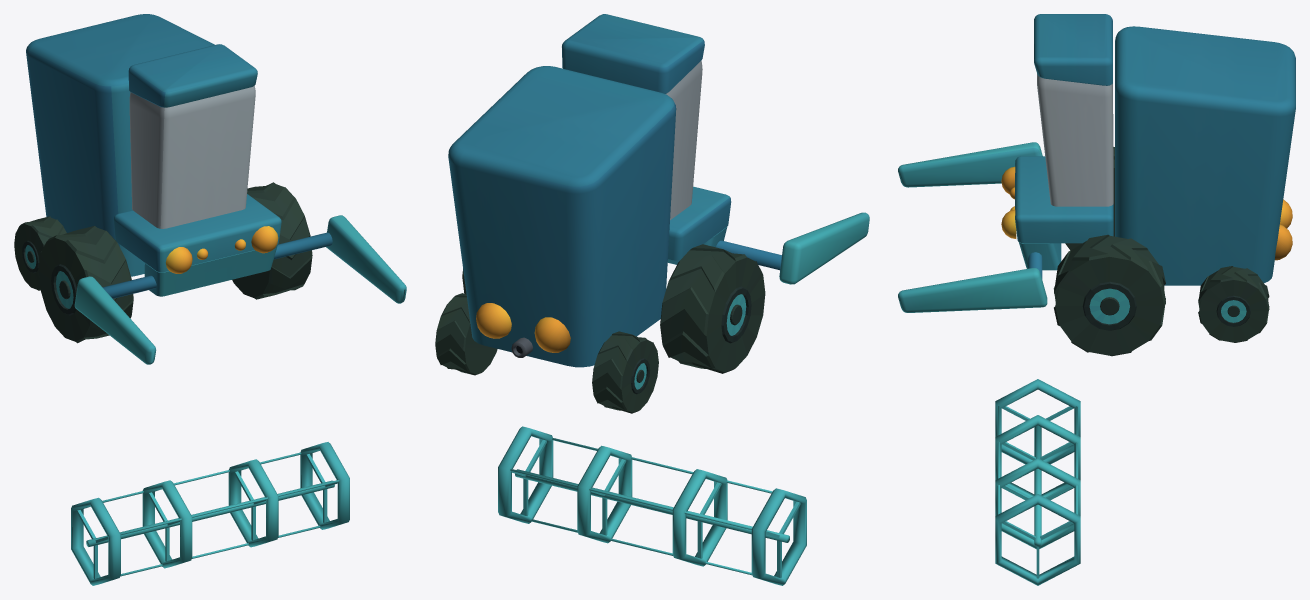
File: Harvester.fbx
3 renders of one model, left to right at view 1: azimuth 30°, elevation 25°; view 2: azimuth 150°, elevation 25°; view 3: azimuth 270°, elevation 25°, orthographic. The views are drawn at different scales.
Parts seen in each view (by area): view 1: Truck, Harvest cylinder, Front Wheels, Pim, Back Wheels; view 2: Truck, Harvest cylinder, Front Wheels, Back Wheels, Pim; view 3: Truck, Front Wheels, Harvest cylinder, Pim, Back Wheels.
Boxes of the visible parts, x1=… form: Truck: x1=26, y1=14, x2=281, y2=296; Harvest cylinder: x1=71, y1=442, x2=349, y2=585; Front Wheels: x1=38, y1=182, x2=312, y2=343; Pim: x1=74, y1=215, x2=406, y2=364; Back Wheels: x1=14, y1=216, x2=66, y2=290; Truck: x1=448, y1=14, x2=731, y2=367; Harvest cylinder: x1=498, y1=426, x2=806, y2=585; Front Wheels: x1=462, y1=244, x2=765, y2=373; Back Wheels: x1=435, y1=293, x2=658, y2=413; Pim: x1=716, y1=212, x2=869, y2=284; Truck: x1=1001, y1=14, x2=1295, y2=285; Front Wheels: x1=1053, y1=147, x2=1165, y2=356; Harvest cylinder: x1=995, y1=379, x2=1080, y2=585; Pim: x1=898, y1=142, x2=1047, y2=312; Back Wheels: x1=1198, y1=266, x2=1269, y2=342.
Bounding box in the file's own units: 2.94 × 5.03 × 3.69.
